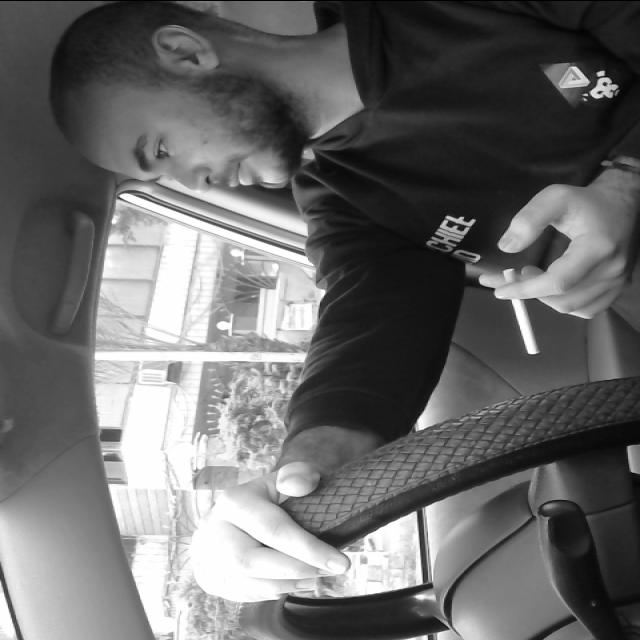smoking: (494, 262, 548, 358)
